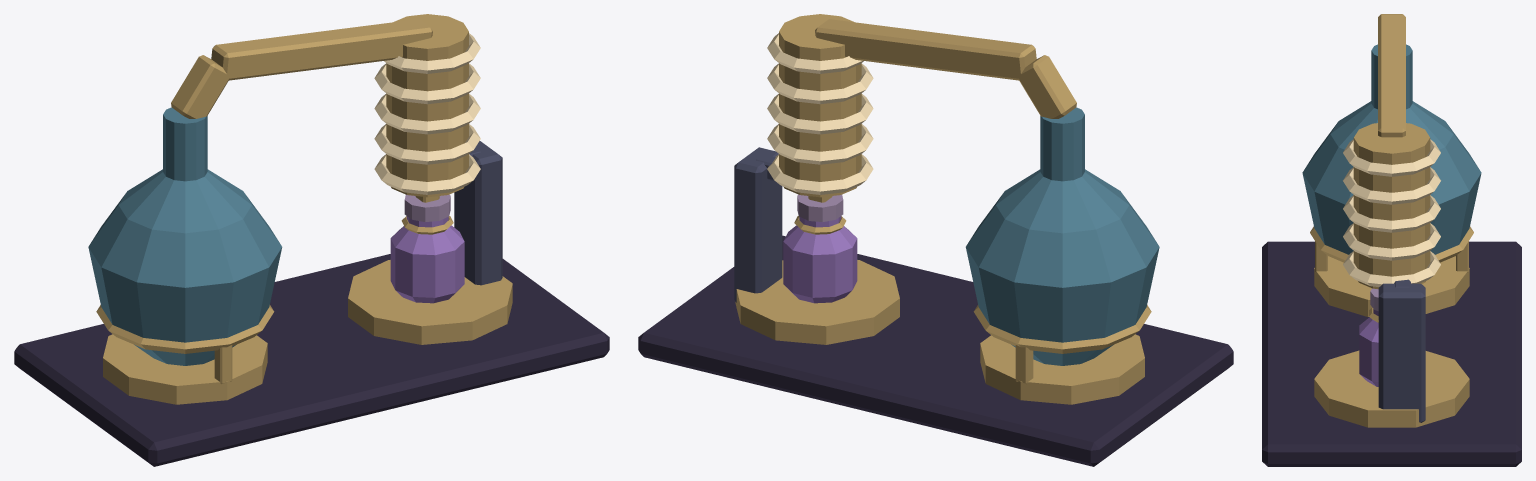
The model's file is 03_Copper_Distiller.glb.
The picture shows the model from 3 angles, left to right: view 1: azimuth 30°, elevation 25°; view 2: azimuth 150°, elevation 25°; view 3: azimuth 270°, elevation 25°; orthographic projection. The views are drawn at different scales.
Parts seen in each view (by area): view 1: 03_Copper_Distiller__Body; view 2: 03_Copper_Distiller__Body; view 3: 03_Copper_Distiller__Body.
Part boxes in pixels (bbox=[...]): 03_Copper_Distiller__Body: bbox=[14, 14, 609, 466]; 03_Copper_Distiller__Body: bbox=[638, 14, 1233, 466]; 03_Copper_Distiller__Body: bbox=[1262, 14, 1521, 466].
Size of the model in its own units: 3.35 by 2.33 by 1.77.
1 material, 1 textured.
